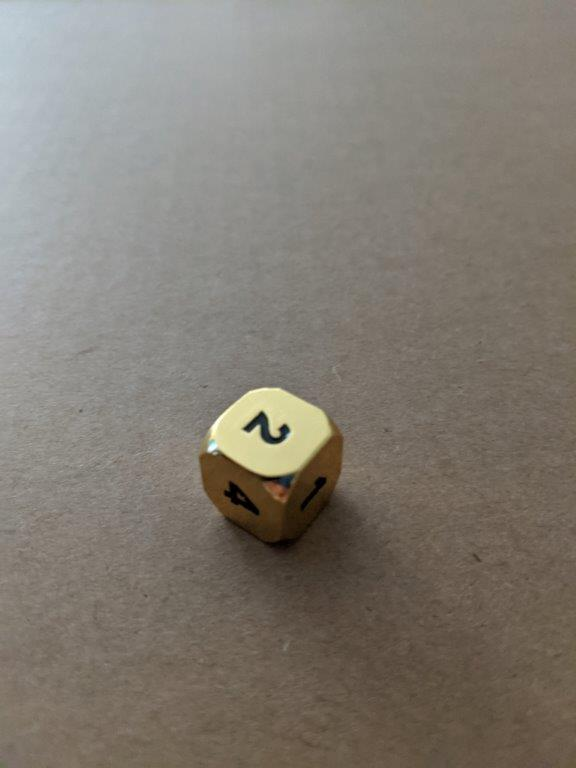d6-2: (198, 385, 343, 548)
